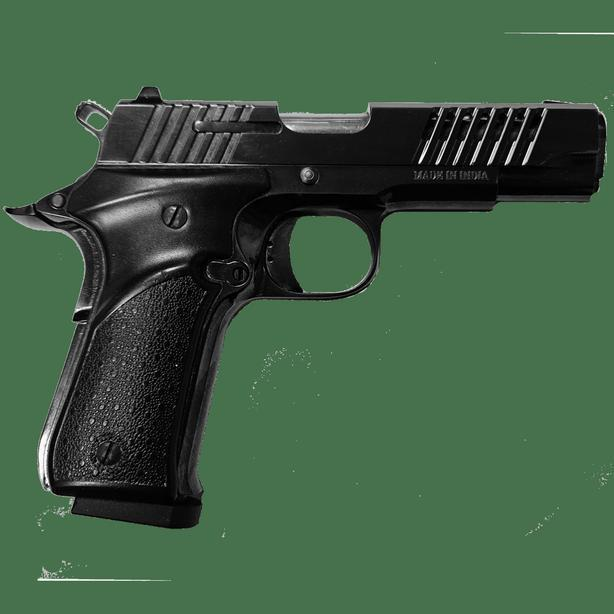Firearm: (3, 49, 614, 546)
